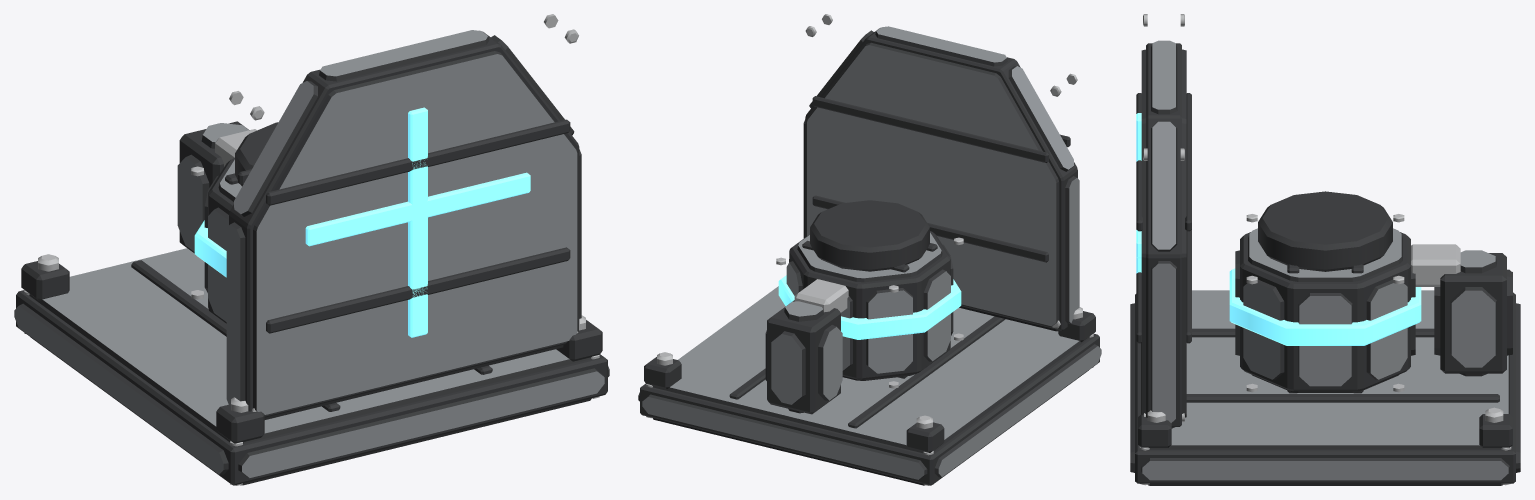
Rendered from R4X_DefensiveTurretDeployer.fbx.
3 views of the same model, side by side, from view 1: azimuth 30°, elevation 25°; view 2: azimuth 150°, elevation 25°; view 3: azimuth 270°, elevation 25° (orthographic). The views are drawn at different scales.
Visible parts, largest first — view 1: R4X_DefensiveTurretDeployer_Pod, R4X_DefensiveTurretDeployer_Body; view 2: R4X_DefensiveTurretDeployer_Pod, R4X_DefensiveTurretDeployer_Body; view 3: R4X_DefensiveTurretDeployer_Body, R4X_DefensiveTurretDeployer_Pod.
Boxes of the visible parts, bbox=[...] form: R4X_DefensiveTurretDeployer_Pod: bbox=[191, 14, 581, 419]; R4X_DefensiveTurretDeployer_Body: bbox=[14, 121, 609, 485]; R4X_DefensiveTurretDeployer_Pod: bbox=[776, 14, 1079, 388]; R4X_DefensiveTurretDeployer_Body: bbox=[638, 279, 1101, 485]; R4X_DefensiveTurretDeployer_Body: bbox=[1130, 244, 1520, 485]; R4X_DefensiveTurretDeployer_Pod: bbox=[1136, 14, 1421, 428].
Size of the model in its own units: 0.52 by 0.49 by 0.52.
